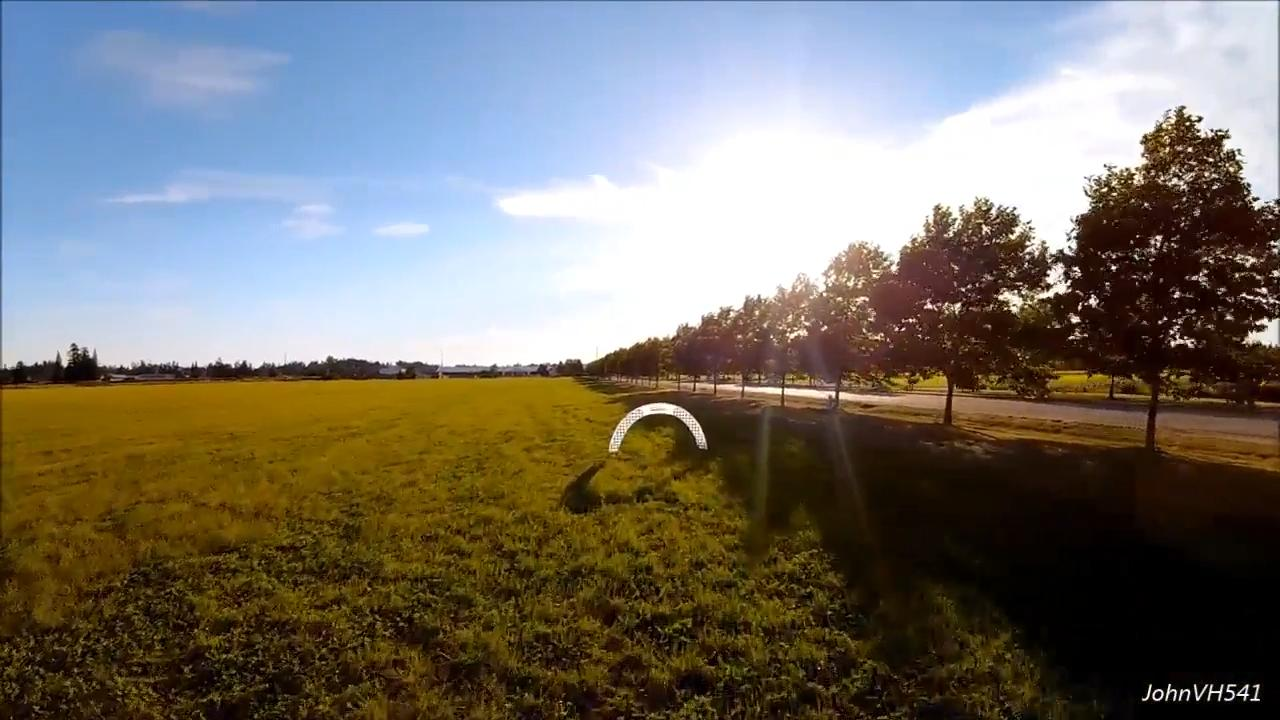gate: (606, 399, 710, 455)
